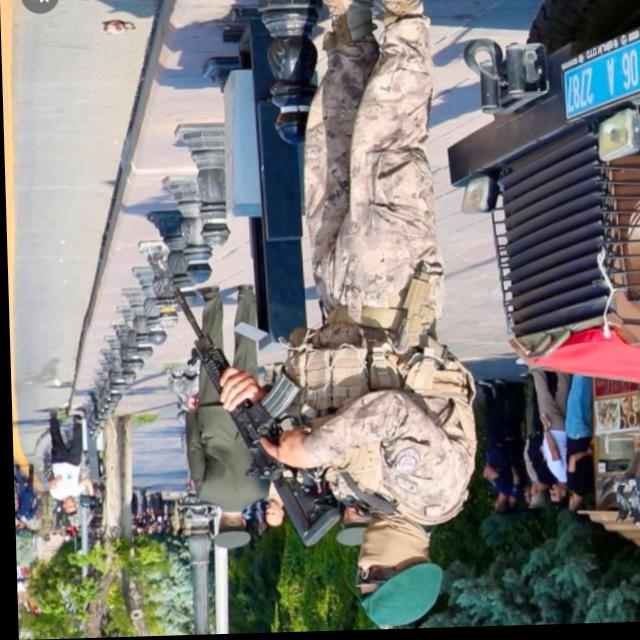poh_personel: (208, 0, 476, 633)
